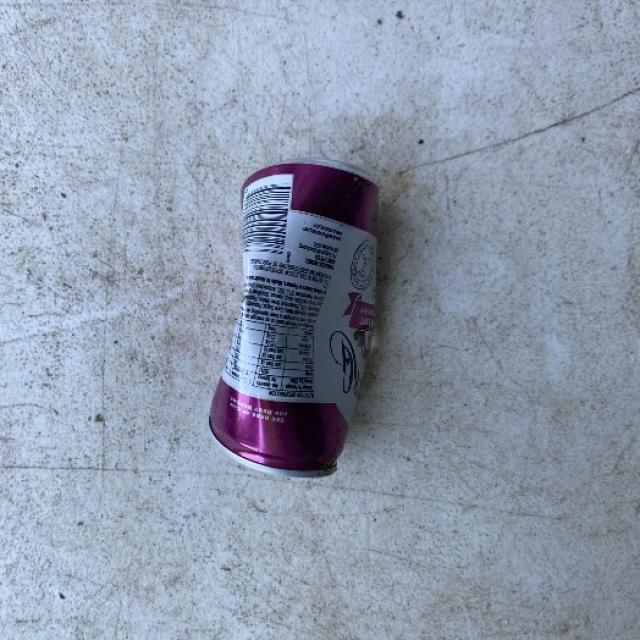inorganic: (208, 134, 394, 503)
